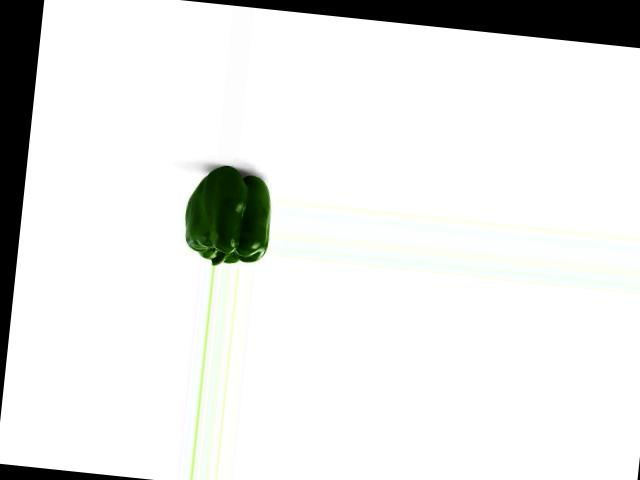bell_pepper: (179, 165, 277, 269)
